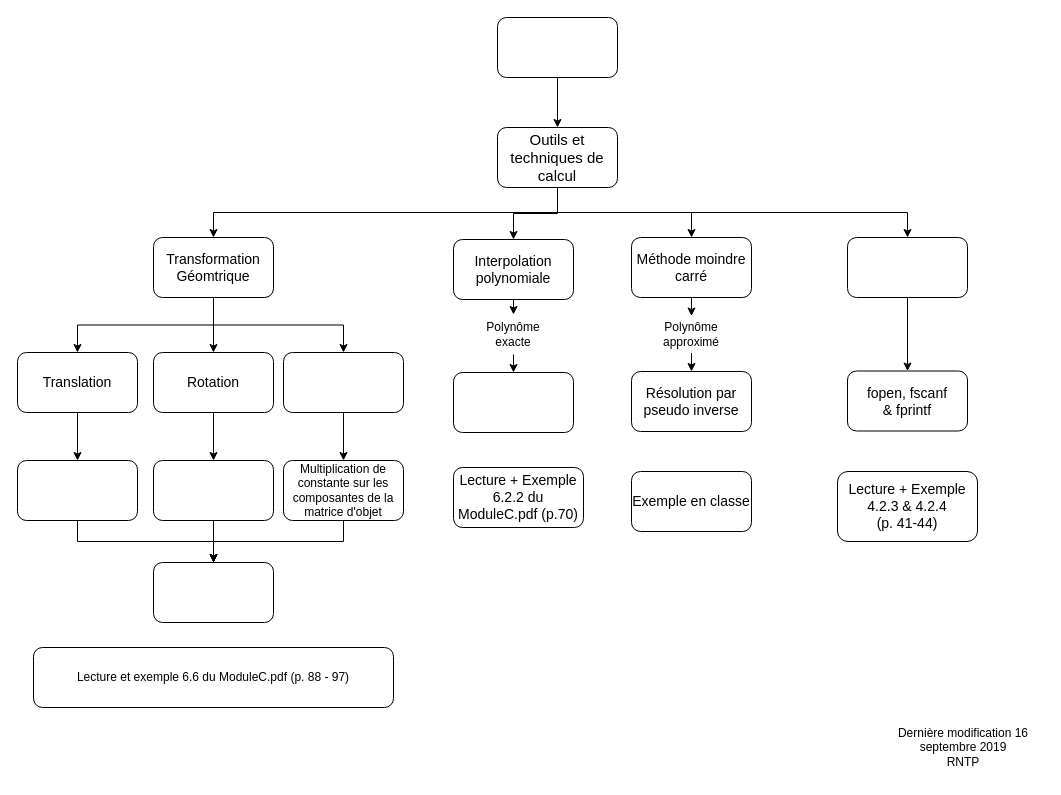
Image size: 1061x795. Some labels were removed from this diagram. The box of each missing label's shape, as (x1, y1, x2, y2) in pixels:
Addition de constante sur lescomposantes de la matrice d'objet: (16, 460, 138, 520)
Changement d'échelle (homothétie): (282, 352, 404, 412)
Maitrîse de boucle for/while: (152, 562, 274, 622)
Module C2: (496, 16, 618, 78)
Multiplication de la matrice de rotation: (152, 460, 274, 520)
Ouverture, lecture et écriture de fichier: (846, 236, 968, 298)
Résolution par la méthode de Vandermonde: (452, 372, 574, 432)
